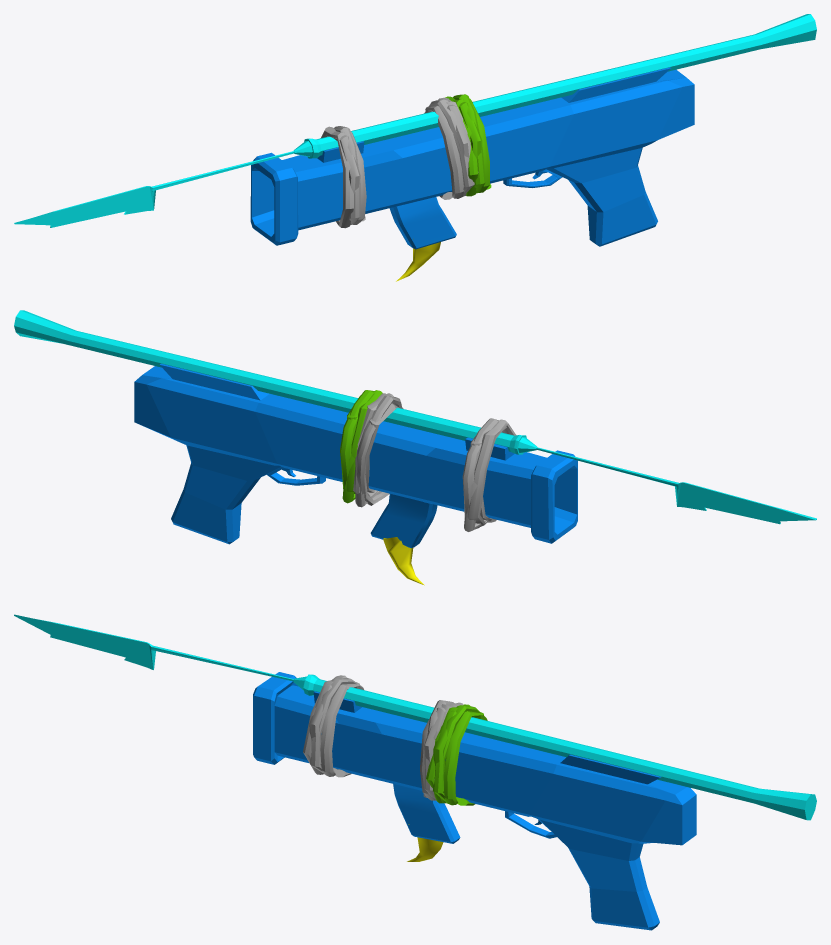
Rendered from gunLow.fbx.
The picture shows the model from 3 angles, top to bottom: view 1: azimuth 30°, elevation 25°; view 2: azimuth 150°, elevation 25°; view 3: azimuth 330°, elevation 25°; orthographic projection.
Parts seen in each view (by area): view 1: pCube11, pCylinder1, pCylinder4, pCylinder2, pCylinder3, polySurface5; view 2: pCube11, pCylinder1, pCylinder2, pCylinder4, pCylinder3, polySurface5; view 3: pCube11, pCylinder1, pCylinder2, pCylinder3, pCylinder4.
Part boxes in pixels (x1,y1,x2,y2): pCube11: [250, 67, 694, 249]; pCylinder1: [14, 14, 816, 227]; pCylinder4: [424, 97, 478, 199]; pCylinder2: [321, 126, 366, 228]; pCylinder3: [445, 94, 491, 196]; polySurface5: [396, 239, 440, 281]; pCube11: [134, 363, 577, 548]; pCylinder1: [14, 310, 816, 524]; pCylinder2: [462, 418, 516, 531]; pCylinder4: [353, 393, 403, 507]; pCylinder3: [340, 390, 382, 503]; polySurface5: [383, 537, 424, 585]; pCube11: [253, 672, 696, 930]; pCylinder1: [14, 614, 816, 820]; pCylinder2: [303, 675, 363, 777]; pCylinder3: [426, 704, 487, 805]; pCylinder4: [420, 700, 463, 800].
Size of the model in its own units: 6.72 by 1.48 by 0.6678.
